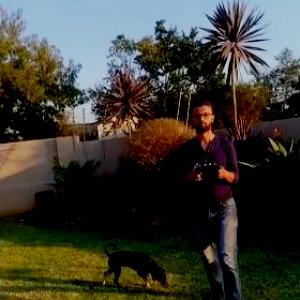follow: (176, 94, 243, 299)
null: (99, 237, 172, 292)
